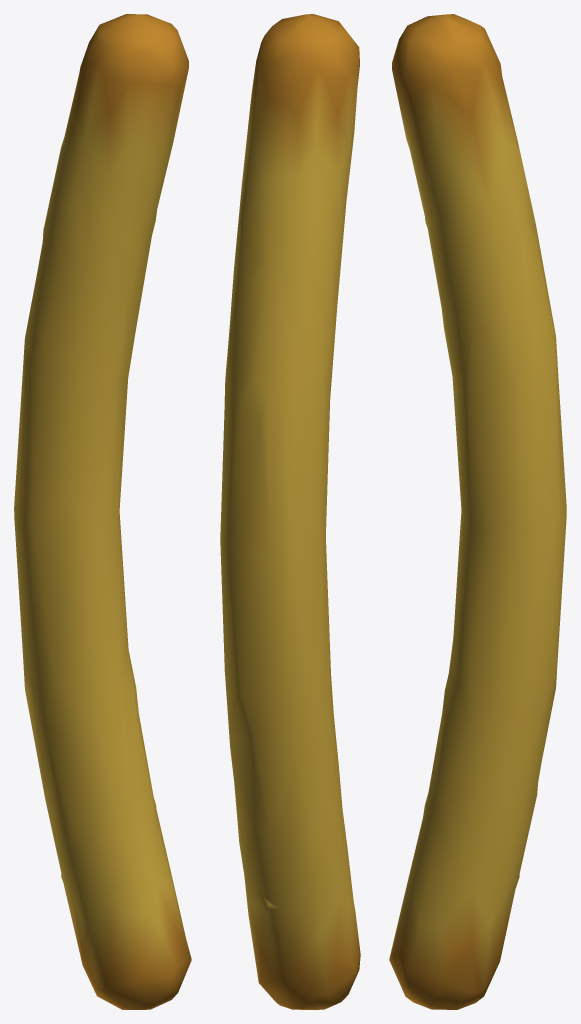
Rendered from fry.glb.
The picture shows the model from 3 angles, left to right: view 1: azimuth 90°, elevation 25°; view 2: azimuth 150°, elevation 25°; view 3: azimuth 270°, elevation 25°; orthographic projection.
Parts seen in each view (by area): view 1: fry; view 2: fry; view 3: fry.
Part boxes in pixels (x1=…): fry: x1=14, y1=14, x2=191, y2=1009; fry: x1=220, y1=14, x2=360, y2=1009; fry: x1=389, y1=14, x2=566, y2=1009.
Bounding box in the file's own units: 0.0096 × 0.0946 × 0.0153.
